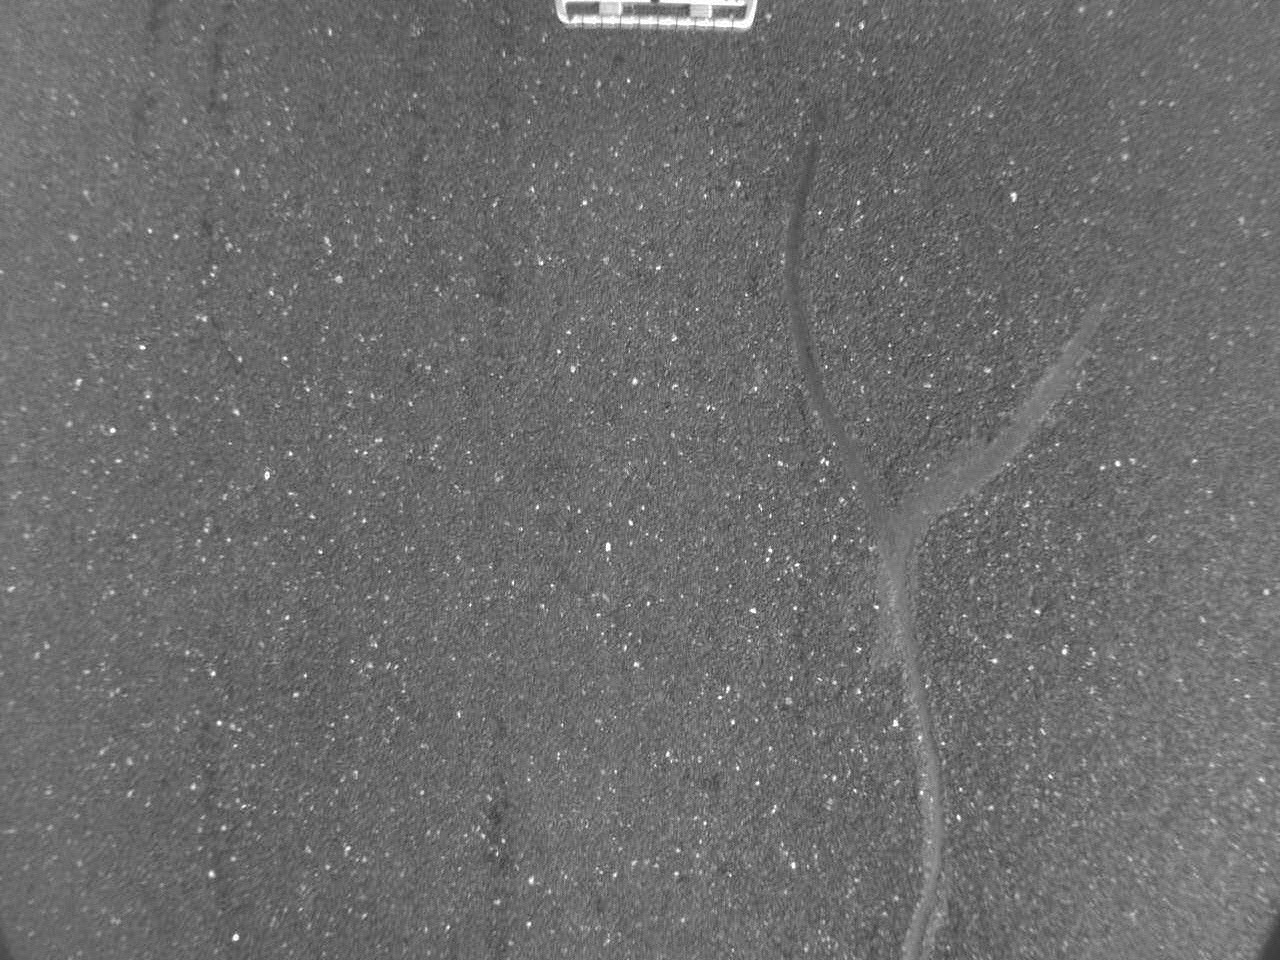sealed: (774, 149, 1097, 945)
